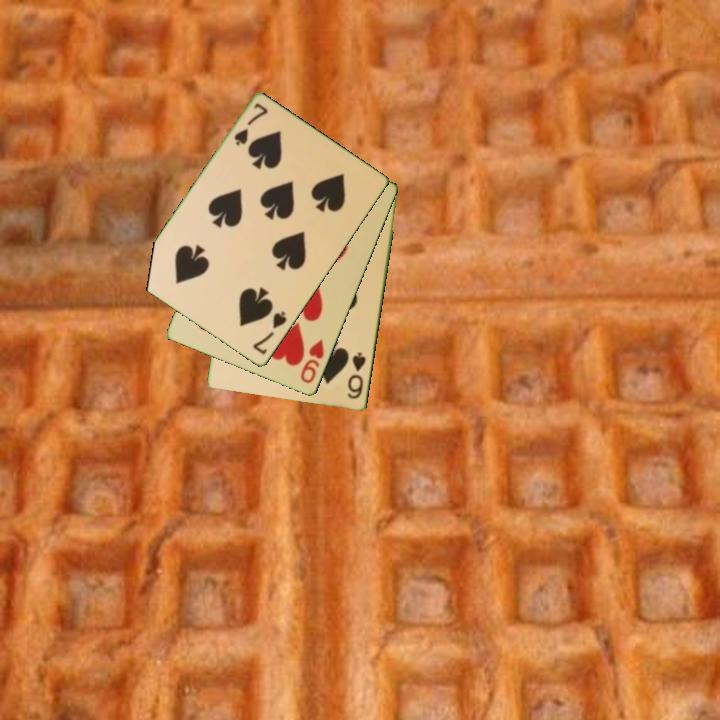6s: (344, 349, 369, 402)
7s: (249, 308, 290, 358), (230, 99, 271, 149)
9h: (297, 337, 327, 387)
